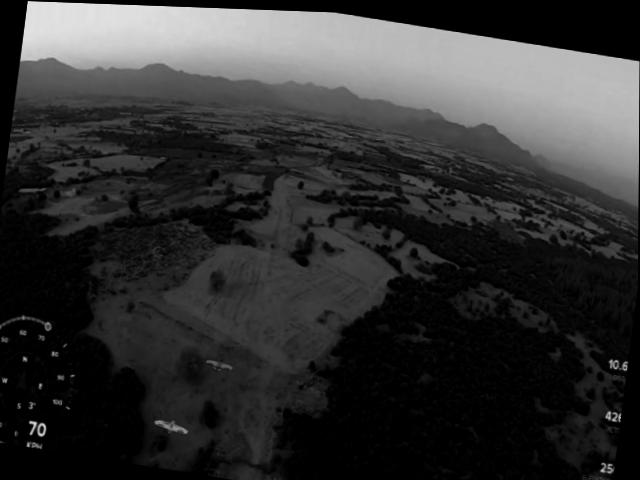hedef: (145, 412, 200, 443)
